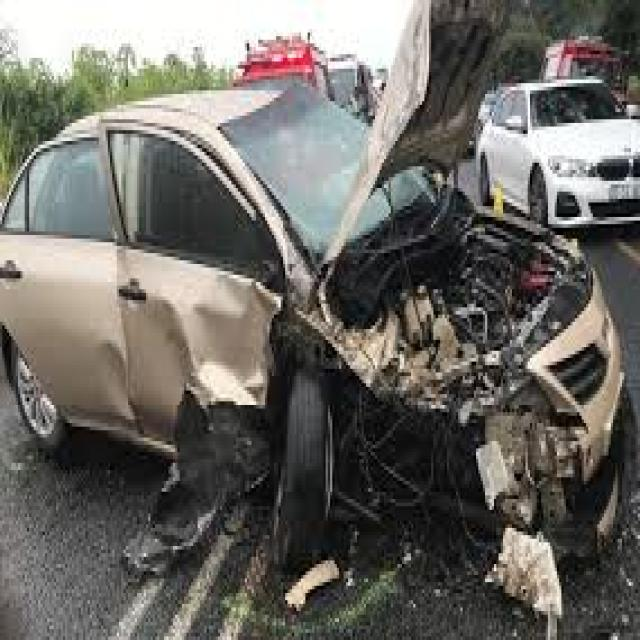accident: (16, 65, 626, 583)
